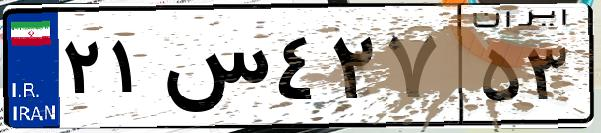1: (110, 28, 158, 98)
2: (330, 28, 385, 110), (57, 26, 110, 100)
3: (525, 38, 570, 115)
4: (270, 28, 330, 110)
5: (475, 38, 525, 113)
7: (385, 28, 445, 110)
س: (158, 20, 270, 120)
